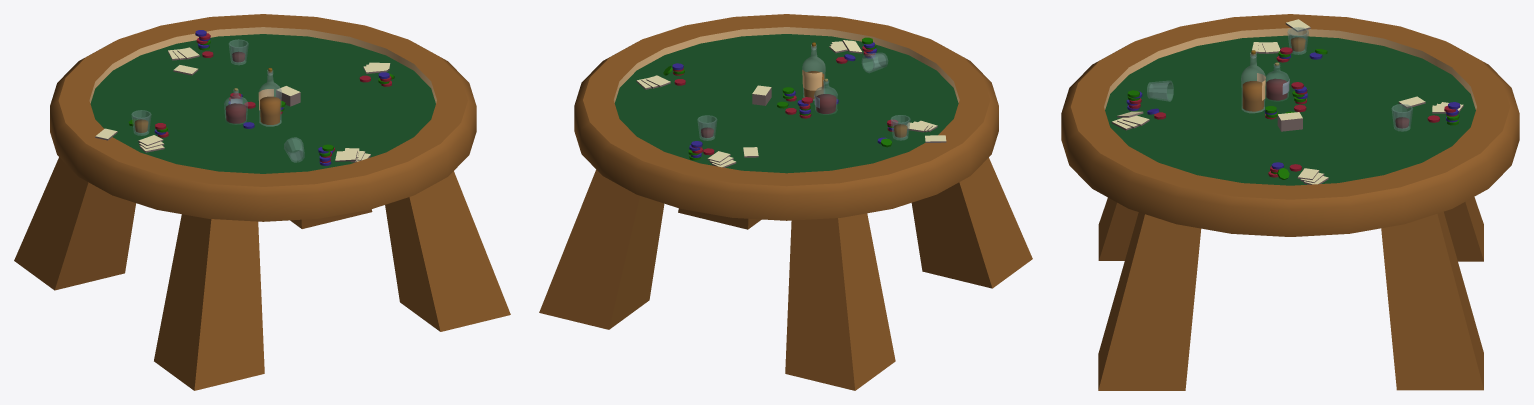
Rendered from mesa_poquer_completa.fbx.
3 views of the same model, side by side, from view 1: azimuth 30°, elevation 25°; view 2: azimuth 150°, elevation 25°; view 3: azimuth 270°, elevation 25° (orthographic). The views are drawn at different scales.
Visible parts, largest first — view 1: mesa_poquer_completa; view 2: mesa_poquer_completa; view 3: mesa_poquer_completa.
Part boxes in pixels (left/top/right/bottom): mesa_poquer_completa: left=14, top=14, right=510, bottom=390; mesa_poquer_completa: left=539, top=14, right=1032, bottom=390; mesa_poquer_completa: left=1061, top=14, right=1519, bottom=390.
Bounding box in the file's own units: 200 × 121 × 200.
